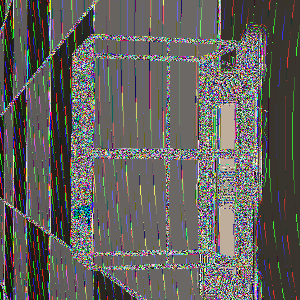Rack: (46, 28, 230, 265)
